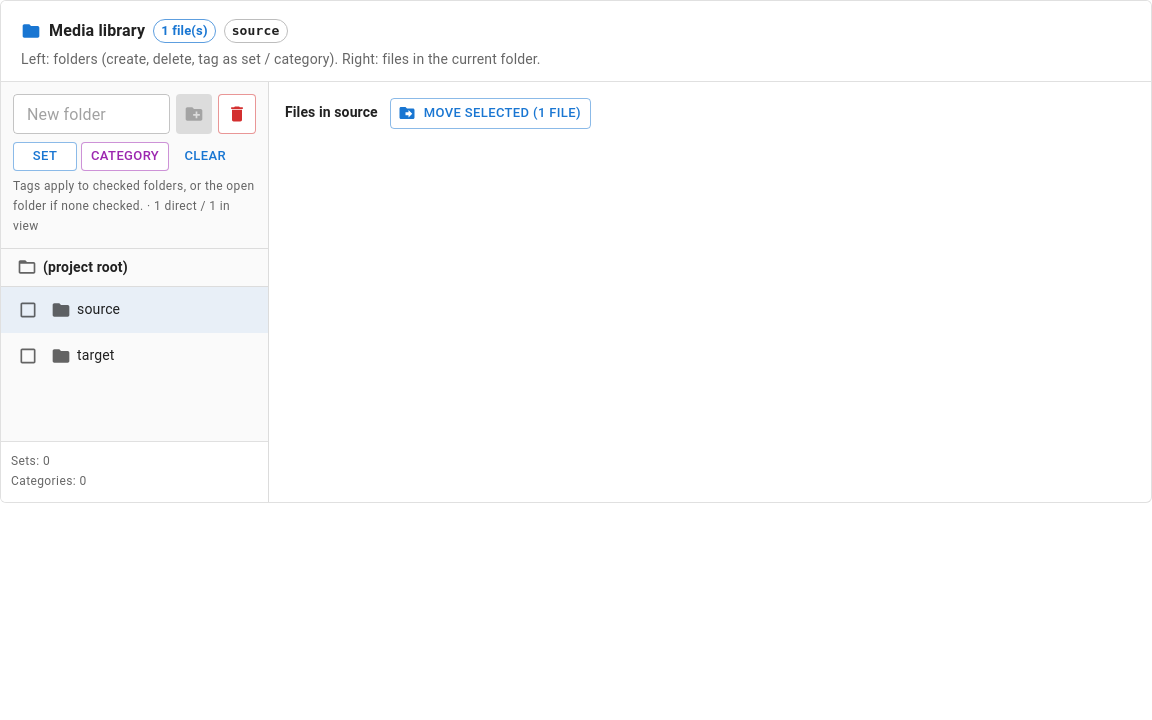
Test: only a successful saved move clears the parent file selection
This screenshot has width=1152, height=720.
Click the button "Move selected (1 file)". click: (490, 113)
box: [390,98,591,129]
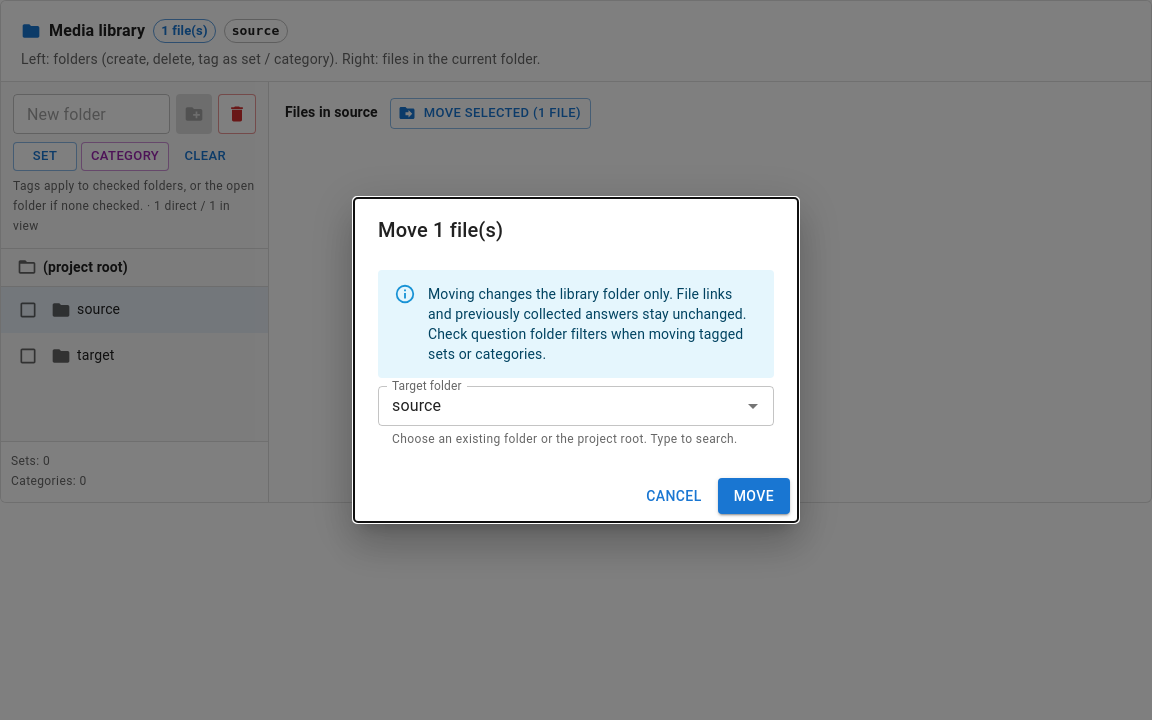
Press the mouse on the dropdown labelled "Target folder" at (546, 406), box [384,392,709,420]
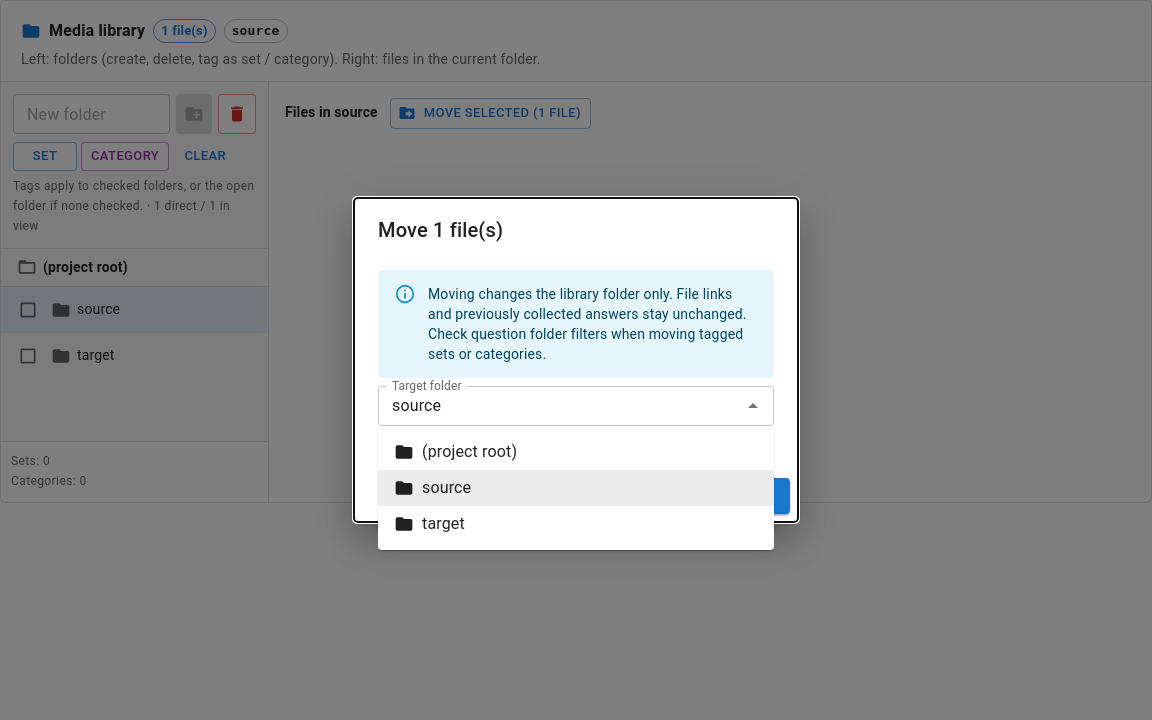
Click the option "target". click: (429, 524)
box: [394,514,465,534]
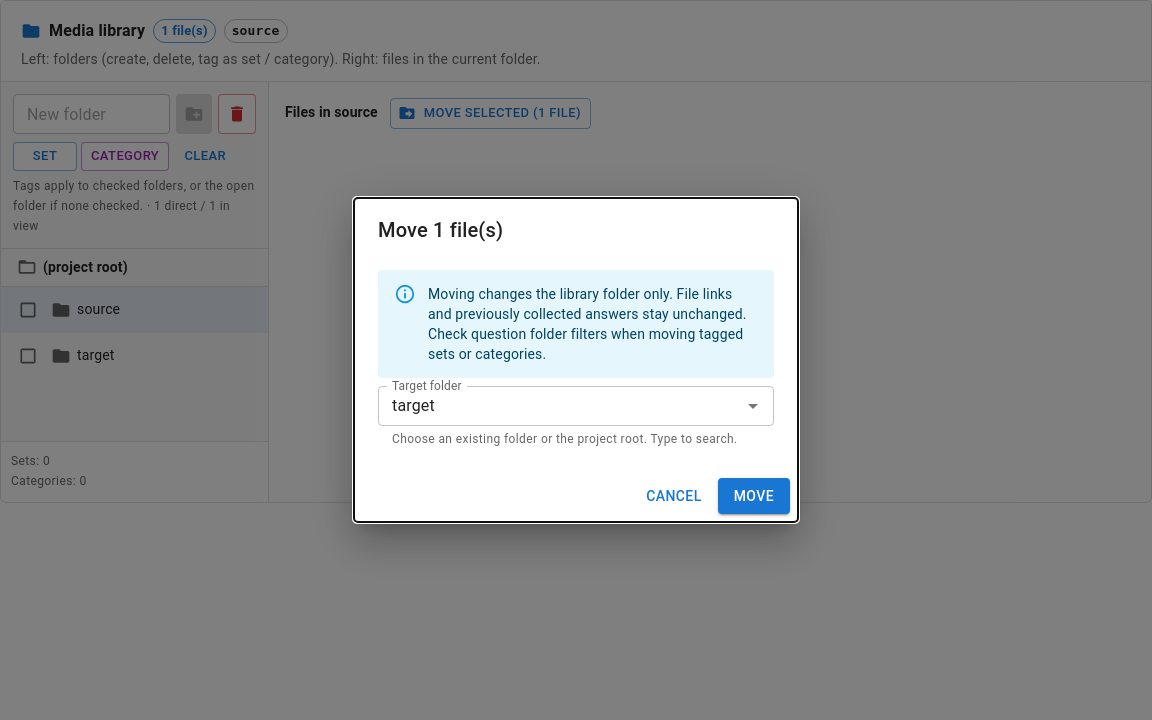
Click the button "Move". click: (754, 496)
box: [718,478,790,514]
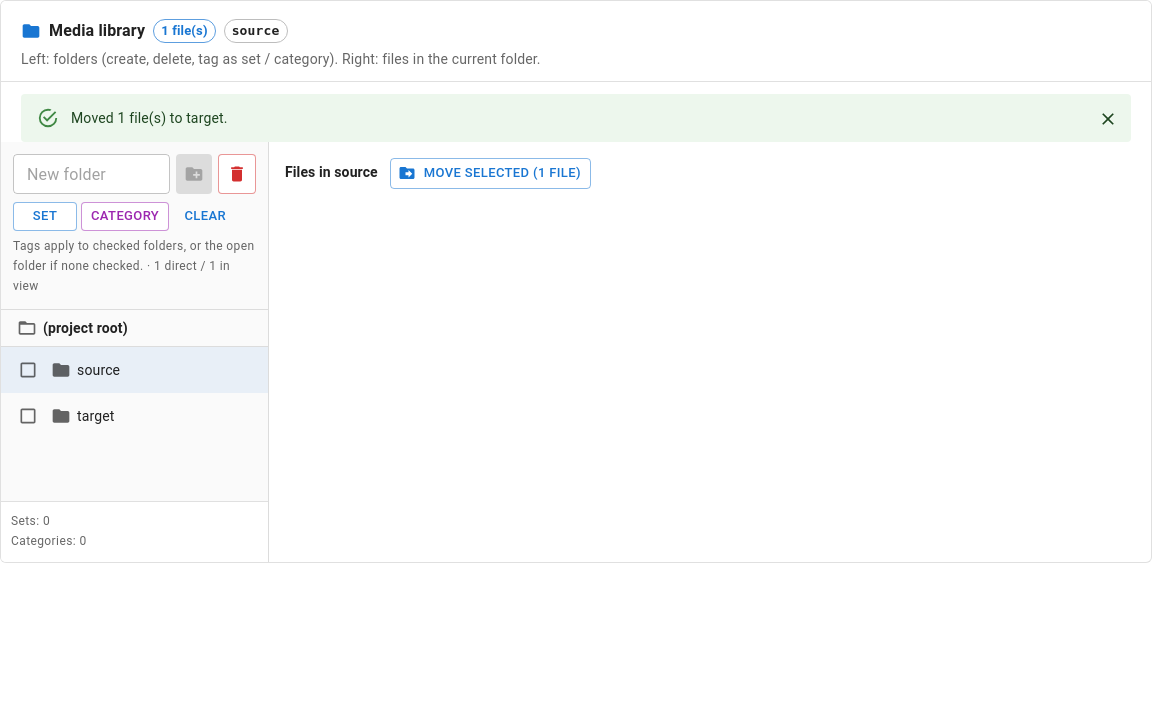
Result: the dialog is gone
